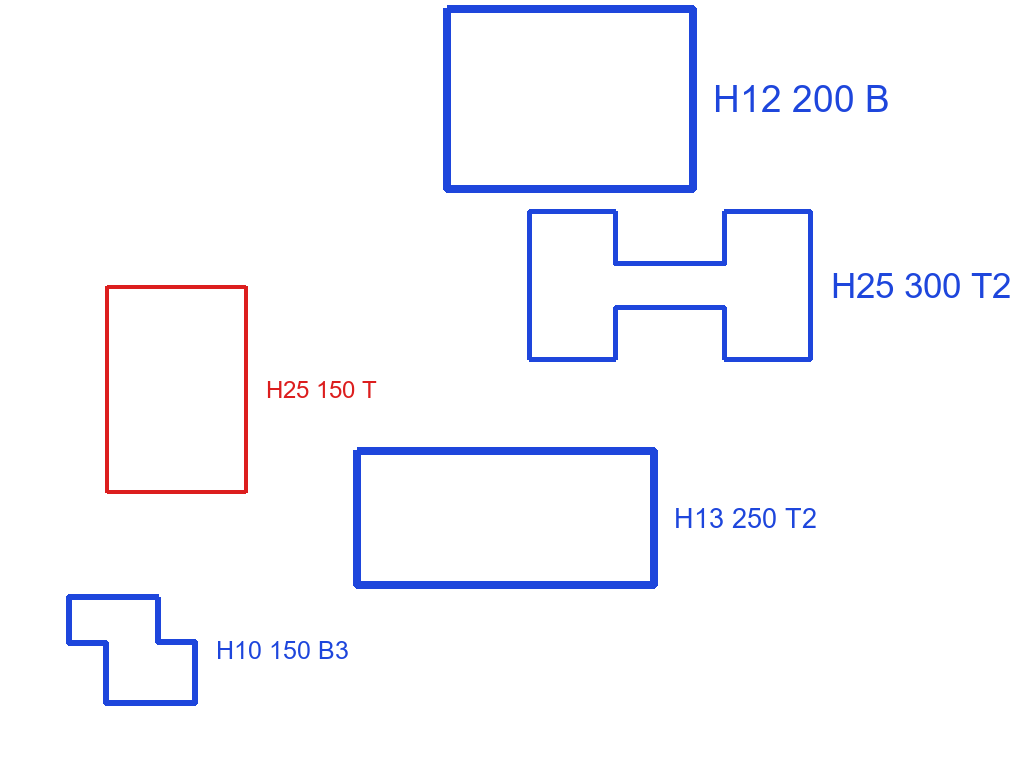shape: (442, 2, 699, 196), (352, 444, 660, 592), (525, 207, 815, 364), (104, 283, 250, 496), (64, 592, 201, 707)
text: (711, 84, 892, 115), (829, 271, 1013, 300), (672, 506, 819, 530), (214, 639, 351, 661), (264, 379, 379, 400)
